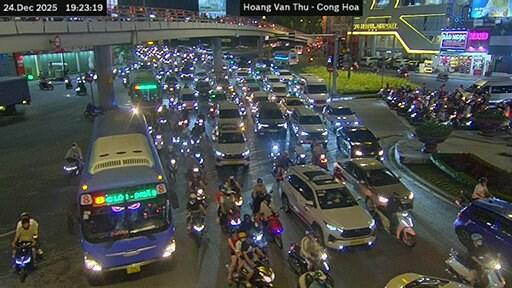motorbike: (444, 248, 505, 286), (374, 208, 415, 247), (13, 241, 35, 280), (249, 259, 274, 286), (287, 243, 307, 274), (297, 270, 332, 287), (188, 211, 204, 246), (266, 212, 282, 247), (441, 112, 473, 129), (220, 208, 240, 232), (249, 223, 266, 251), (313, 250, 330, 278), (454, 189, 470, 207), (189, 144, 202, 166), (63, 161, 82, 175), (83, 103, 103, 116), (396, 97, 410, 115), (236, 265, 248, 286), (272, 161, 284, 181), (312, 153, 326, 169), (268, 143, 280, 160), (175, 118, 188, 133), (169, 154, 176, 180), (294, 145, 304, 163), (233, 190, 243, 207), (179, 136, 188, 153), (38, 80, 53, 89), (157, 117, 167, 130), (76, 81, 85, 94), (294, 152, 304, 163), (154, 135, 163, 147), (208, 107, 216, 120), (396, 68, 408, 76), (435, 72, 448, 79), (64, 76, 71, 89), (121, 75, 128, 86)
